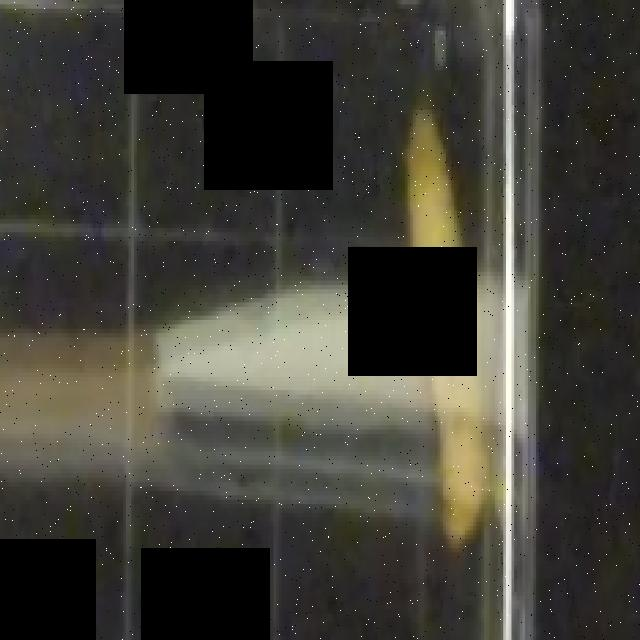larva: (404, 90, 494, 560)
